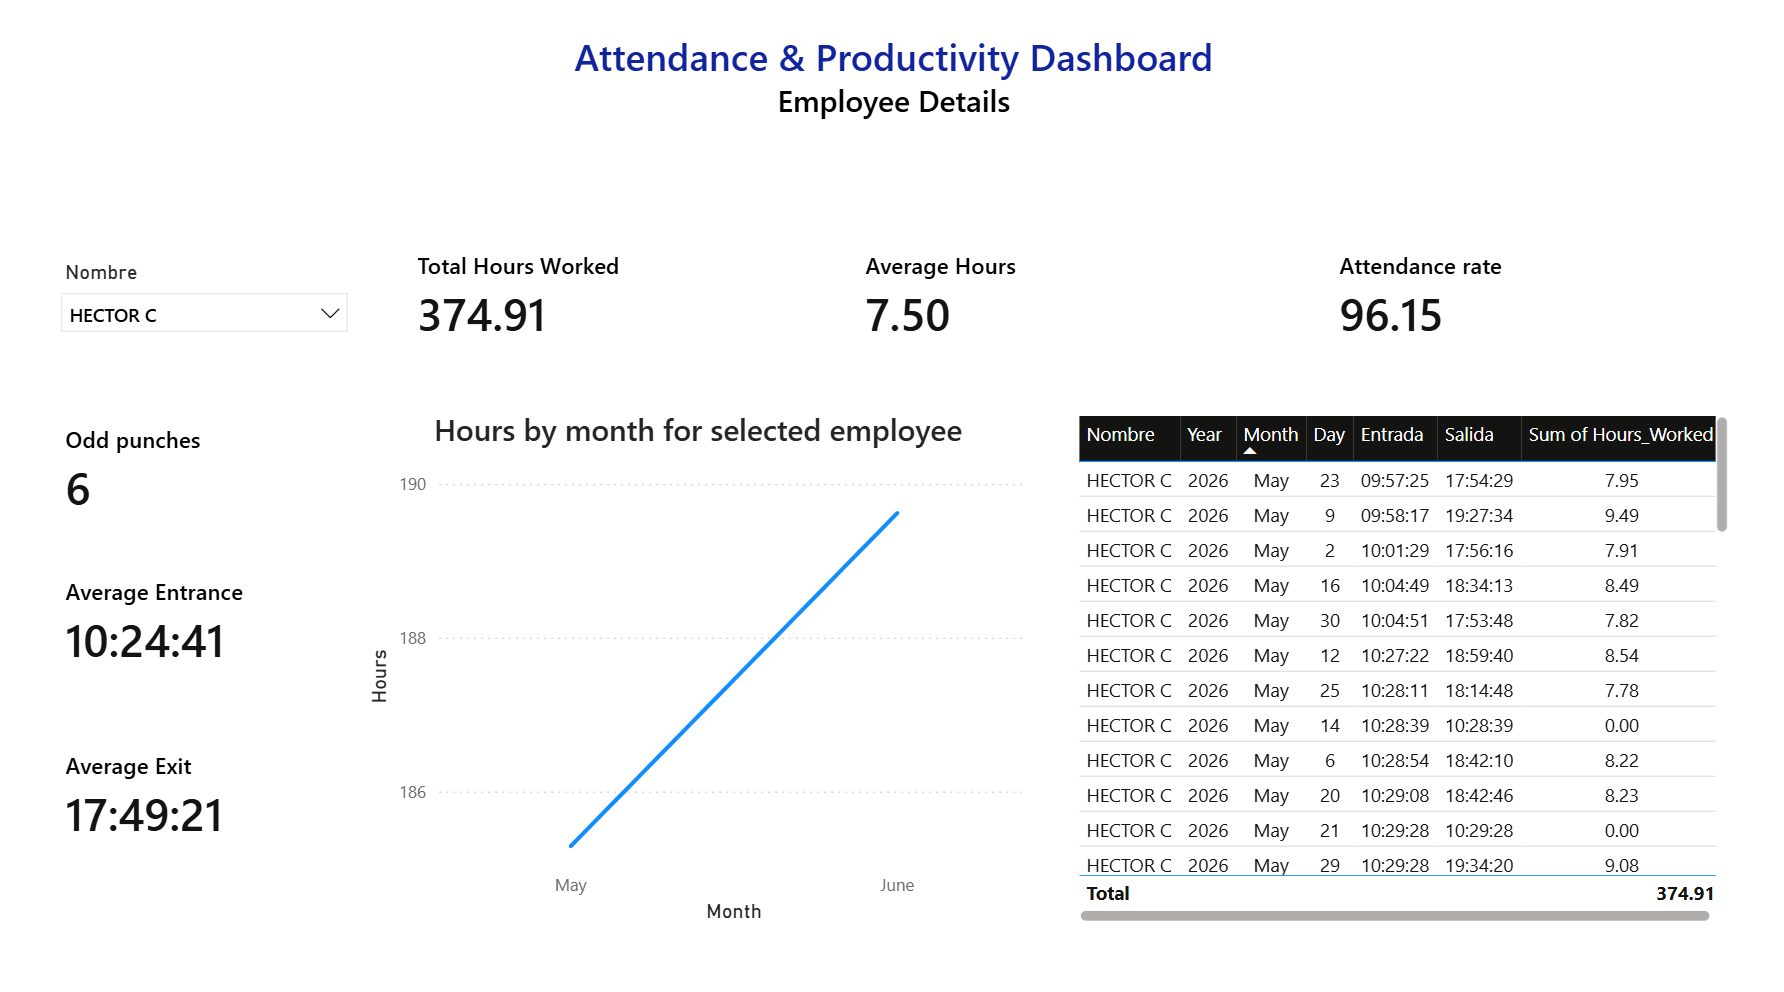

The page's visual inventory and layout, read from the dashboard file:
{"tool":"powerbi","page":{"name":"Employee Details","canvas":[1280,720],"ordinal":4},"visuals":[{"type":"slicer","fields":{"Values":["public vw_employee_summary.Nombre"]},"box":[35.7,186.5,224.9,86.4],"z":0},{"type":"cardVisual","fields":{"Data":["Sum(public vw_employee_summary.Total_Hours)"]},"box":[271.5,163.2,300,110],"z":1000},{"type":"cardVisual","fields":{"Data":["Avg(public vw_employee_summary.Average_Hours)"]},"box":[591.1,163.2,300,110],"z":2000},{"type":"cardVisual","fields":{"Data":["Avg(public vw_attendance_percentage.percentage_attendance)"]},"box":[929.8,163.2,300,110],"z":3000},{"type":"cardVisual","fields":{"Data":["Sum(public vw_employee_summary.Odd_Punches)"]},"box":[20.6,286.6,225,110],"z":4000},{"type":"lineChart","title":"Hours by month for selected employee","fields":{"Y":["Sum(public vw_employee_summary.Total_Hours)"],"Category":["public vw_employee_summary.Month_Name"]},"box":[260.6,299,481.4,371.7],"z":5000},{"type":"tableEx","fields":{"Values":["public vw_attendance_report.Nombre","public vw_attendance_report.Fecha.Variation.Date Hierarchy.Year","public vw_attendance_report.Fecha.Variation.Date Hierarchy.Month","public vw_attendance_report.Fecha.Variation.Date Hierarchy.Day","public vw_attendance_report.Entrada","public vw_attendance_report.Salida","Sum(public vw_attendance_report.Hours_Worked)"]},"box":[766.6,299,474.5,371.7],"z":6000},{"type":"cardVisual","fields":{"Data":["Min(public vw_employee_summary.Average_Entrance)"]},"box":[20.6,396.3,225,110],"z":7000},{"type":"cardVisual","fields":{"Data":["Min(public vw_employee_summary.Average_Exit)"]},"box":[20.6,519.8,225,110],"z":8000},{"type":"textbox","box":[51.6,22.7,1178.4,94],"z":9000}]}

Visuals, with their boxes in screenshot pixels (x1, y1, x2, y2), scaled from the page's 1280x720 canvas onto the 1784x992 screenshot:
slicer - public vw_employee_summary.Nombre: box(50, 257, 363, 376)
cardVisual - Sum(public vw_employee_summary.Total_Hours): box(378, 225, 797, 376)
cardVisual - Avg(public vw_employee_summary.Average_Hours): box(824, 225, 1242, 376)
cardVisual - Avg(public vw_attendance_percentage.percentage_attendance): box(1296, 225, 1714, 376)
cardVisual - Sum(public vw_employee_summary.Odd_Punches): box(29, 395, 342, 546)
"Hours by month for selected employee" lineChart: box(363, 412, 1034, 924)
tableEx - public vw_attendance_report.Nombre x public vw_attendance_report.Fecha.Variation.Date Hierarchy.Year: box(1068, 412, 1730, 924)
cardVisual - Min(public vw_employee_summary.Average_Entrance): box(29, 546, 342, 698)
cardVisual - Min(public vw_employee_summary.Average_Exit): box(29, 716, 342, 868)
textbox: box(72, 31, 1714, 161)
